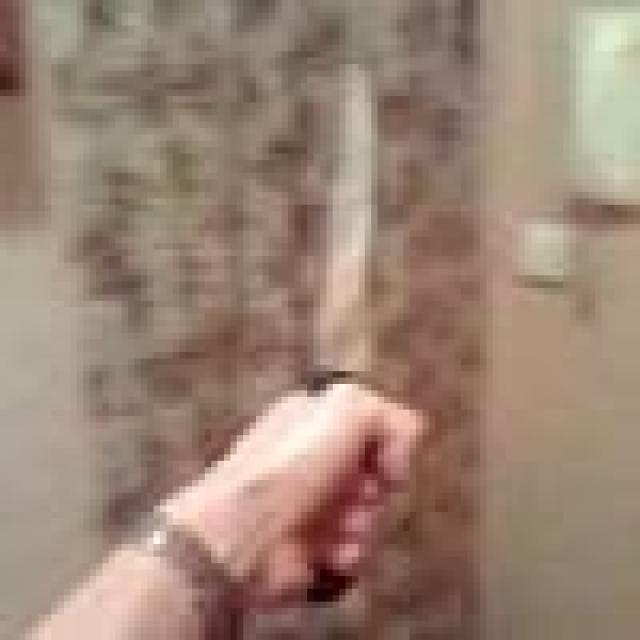senjata_tajam: (308, 62, 381, 390)
